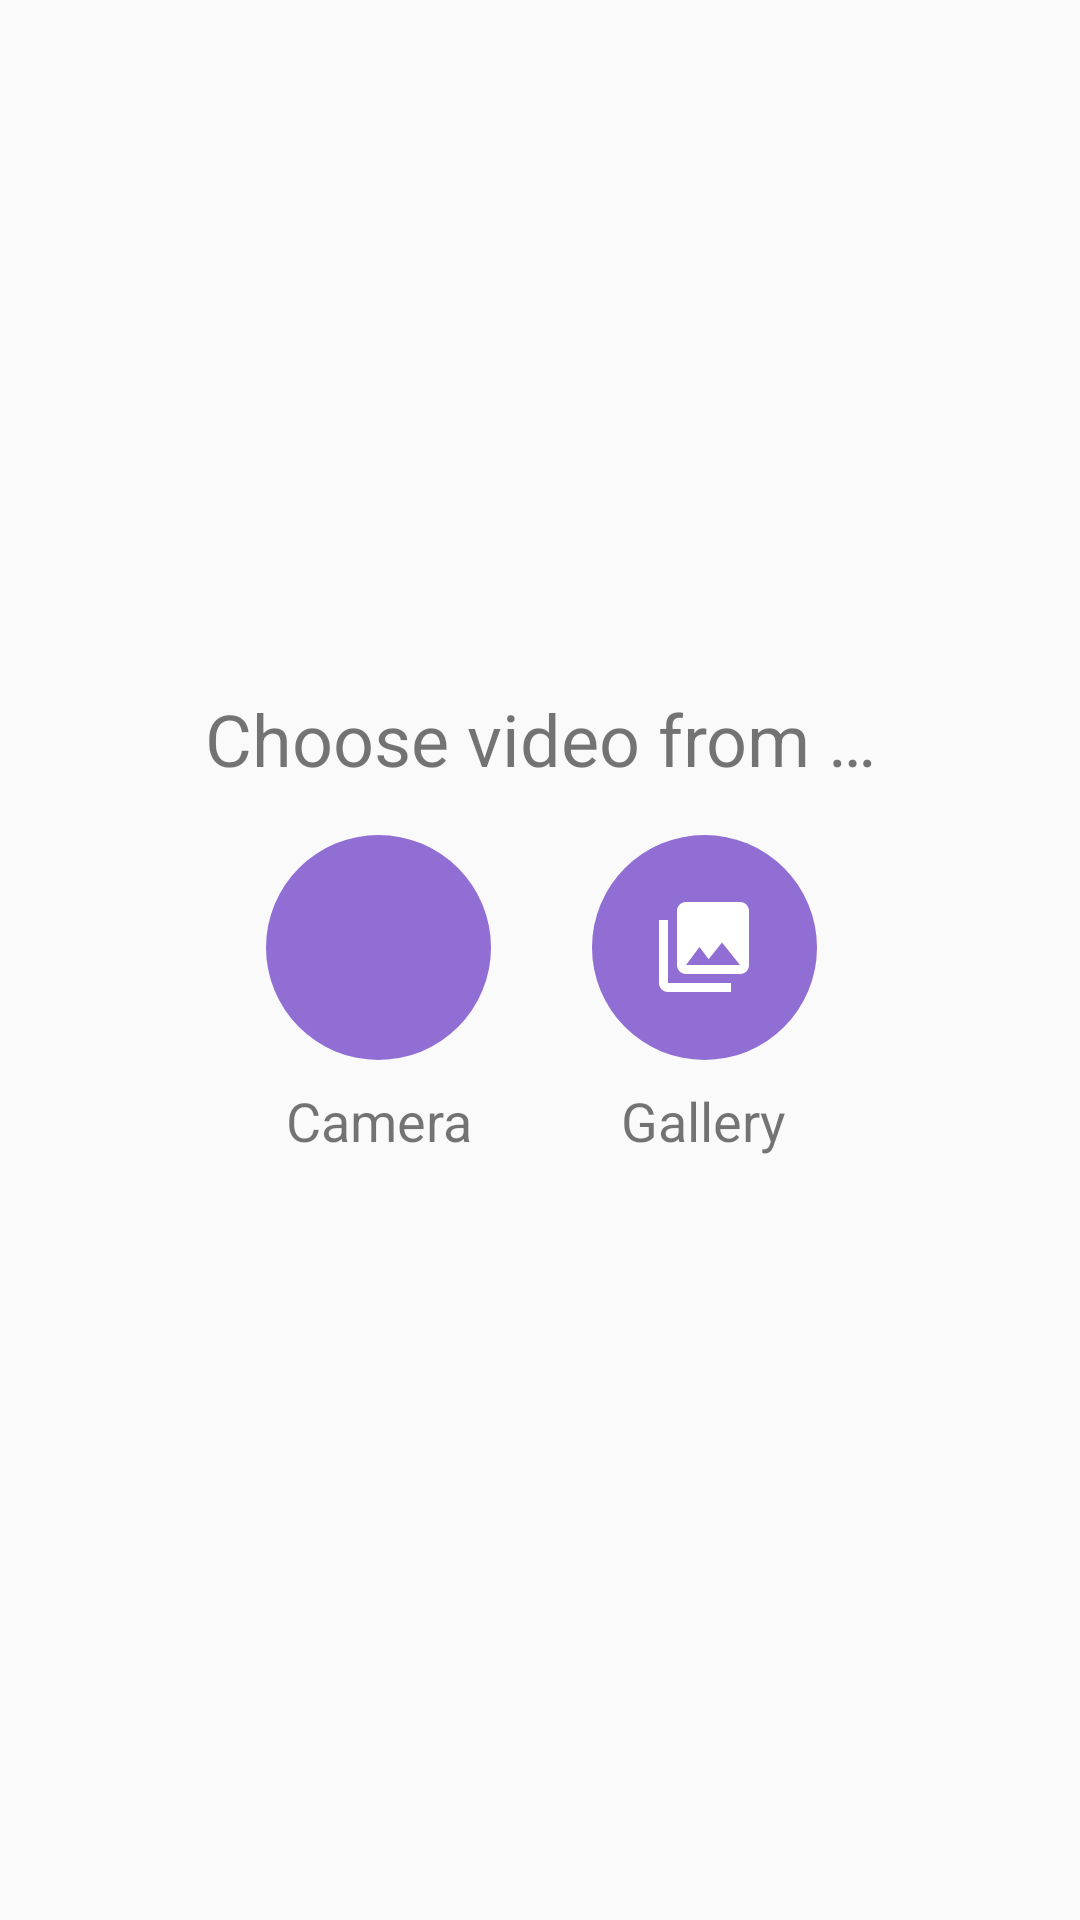

Icon click points for this 1080px x 1920px phone screenshot, format (x,y):
photo library: (704,947)
